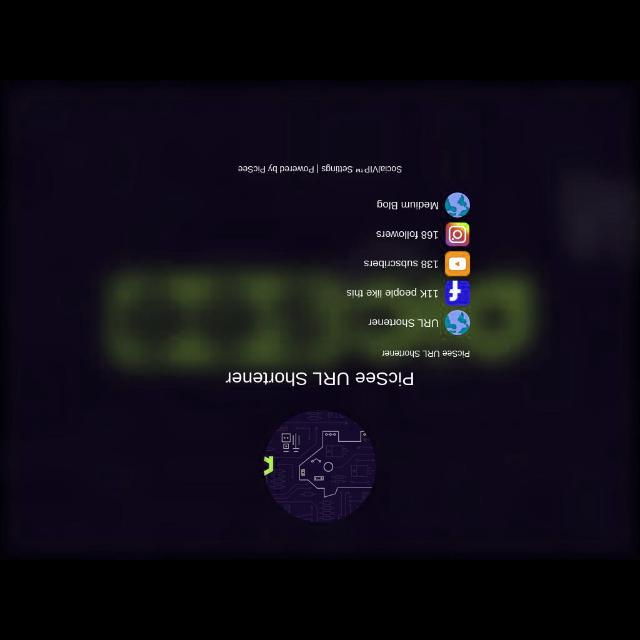backgroundimage: (1, 84, 637, 558)
image: (260, 410, 380, 524), (443, 282, 473, 306), (444, 252, 471, 278), (445, 310, 471, 336), (444, 222, 470, 246), (446, 192, 470, 214)
text: (224, 369, 418, 389), (233, 164, 405, 176), (346, 285, 438, 303), (366, 317, 439, 331), (378, 350, 472, 360), (362, 260, 438, 270), (374, 200, 440, 210), (376, 229, 438, 239)
